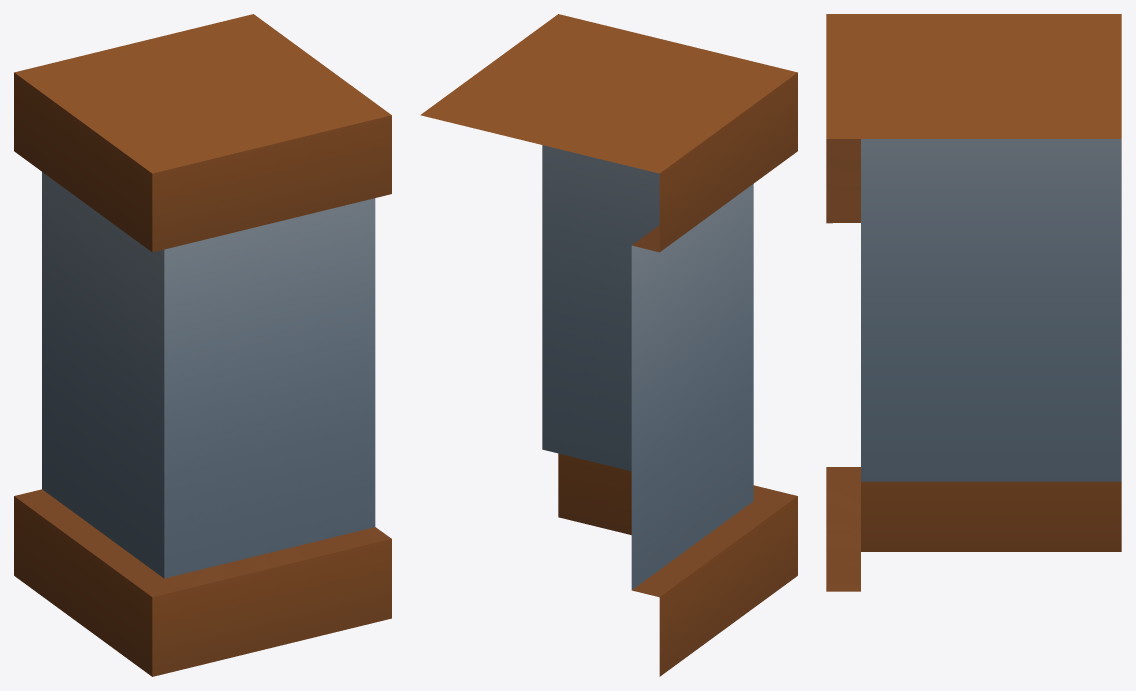
Rendered from CornerWall.FBX.
The picture shows the model from 3 angles, left to right: view 1: azimuth 30°, elevation 25°; view 2: azimuth 150°, elevation 25°; view 3: azimuth 270°, elevation 25°; orthographic projection. The views are drawn at different scales.
Visible parts, largest first — view 1: CornerWall; view 2: CornerWall; view 3: CornerWall.
Part boxes in pixels (bbox=[...]): CornerWall: bbox=[14, 14, 391, 676]; CornerWall: bbox=[420, 14, 797, 676]; CornerWall: bbox=[826, 14, 1121, 591].
Size of the model in its own units: 1 by 2.01 by 1.
